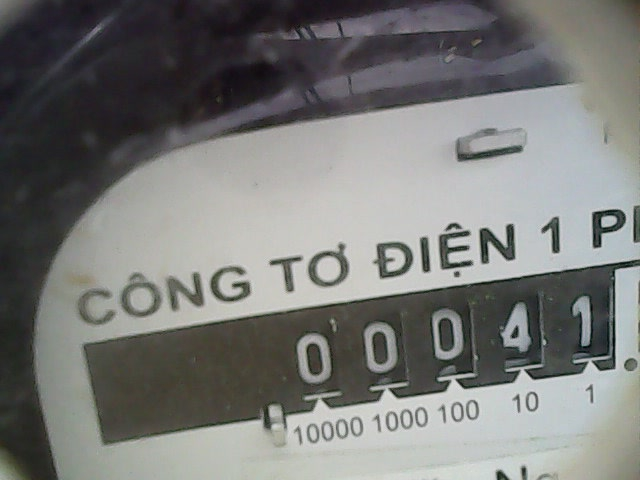phy_plate: (287, 265, 640, 410)
